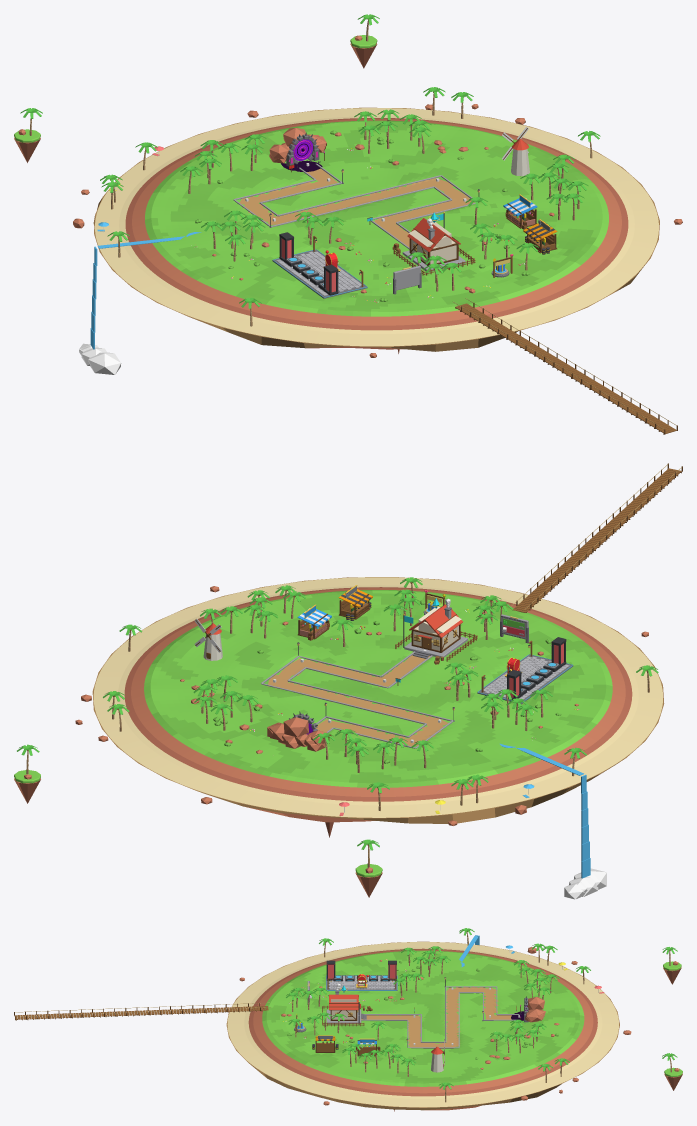
File: Isla1_Tropical.glb
3 views of the same model, one above another, from view 1: azimuth 30°, elevation 25°; view 2: azimuth 150°, elevation 25°; view 3: azimuth 270°, elevation 25° (orthographic). The views are drawn at different scales.
Parts seen in each view (by area): view 1: Isla1_Tropical_Terreno, Isla1_Tropical_Base_Flotante, Isla1_Tropical_Palanca_Zona, Isla1_Tropical_Casa, Isla1_Tropical_Portal, Isla1_Tropical_Detalles_4, Isla1_Tropical_Monumento, Isla1_Tropical_Tienda_Puesto, Puente_1_6, Isla1_Tropical_Equipamientos_Puesto, Isla1_Tropical_Detalles_10, Isla1_Tropical_Detalles_11 (+1 smaller); view 2: Isla1_Tropical_Terreno, Isla1_Tropical_Base_Flotante, Isla1_Tropical_Casa, Isla1_Tropical_Palanca_Zona, Isla1_Tropical_Detalles_4, Isla1_Tropical_Portal, Isla1_Tropical_Equipamientos_Puesto, Isla1_Tropical_Tienda_Puesto, Isla1_Tropical_Detalles_10, Isla1_Tropical_Detalles_11, Isla1_Tropical_Monumento, Isla1_Tropical_Arboles_28 (+1 smaller); view 3: Isla1_Tropical_Terreno, Isla1_Tropical_Base_Flotante, Isla1_Tropical_Casa, Isla1_Tropical_Palanca_Zona, Isla1_Tropical_Portal, Puente_1_6, Isla1_Tropical_Detalles_11, Isla1_Tropical_Detalles_10, Isla1_Tropical_Equipamientos_Puesto, Isla1_Tropical_Monumento.
Boxes of the visible parts, box(x1,y1,x2,y2) form: Isla1_Tropical_Terreno: box(95, 108, 658, 346); Isla1_Tropical_Base_Flotante: box(93, 107, 659, 351); Isla1_Tropical_Palanca_Zona: box(272, 232, 367, 298); Isla1_Tropical_Casa: box(393, 212, 475, 275); Isla1_Tropical_Portal: box(269, 128, 326, 171); Isla1_Tropical_Detalles_4: box(79, 236, 184, 374); Isla1_Tropical_Monumento: box(502, 127, 529, 176); Isla1_Tropical_Tienda_Puesto: box(503, 194, 537, 229); Puente_1_6: box(453, 298, 676, 429); Isla1_Tropical_Equipamientos_Puesto: box(523, 219, 557, 254); Isla1_Tropical_Detalles_10: box(350, 14, 379, 68); Isla1_Tropical_Detalles_11: box(14, 108, 42, 162); Isla1_Tropical_Terreno: box(93, 577, 662, 817); Isla1_Tropical_Base_Flotante: box(92, 577, 664, 823); Isla1_Tropical_Casa: box(395, 598, 477, 661); Isla1_Tropical_Palanca_Zona: box(477, 637, 573, 704); Isla1_Tropical_Detalles_4: box(515, 747, 606, 899); Isla1_Tropical_Portal: box(267, 711, 327, 751); Isla1_Tropical_Equipamientos_Puesto: box(338, 585, 372, 620); Isla1_Tropical_Tienda_Puesto: box(297, 604, 331, 640); Isla1_Tropical_Detalles_10: box(14, 744, 40, 803); Isla1_Tropical_Detalles_11: box(355, 839, 382, 897); Isla1_Tropical_Monumento: box(194, 619, 222, 660); Isla1_Tropical_Arboles_28: box(200, 681, 258, 730); Isla1_Tropical_Terreno: box(227, 942, 618, 1107); Isla1_Tropical_Base_Flotante: box(226, 941, 619, 1110); Isla1_Tropical_Casa: box(322, 983, 366, 1026); Isla1_Tropical_Palanca_Zona: box(326, 960, 397, 990); Isla1_Tropical_Portal: box(511, 996, 545, 1022); Puente_1_6: box(15, 1002, 270, 1016); Isla1_Tropical_Detalles_11: box(662, 947, 681, 984); Isla1_Tropical_Detalles_10: box(662, 1053, 682, 1090); Isla1_Tropical_Equipamientos_Puesto: box(312, 1035, 338, 1052); Isla1_Tropical_Monumento: box(431, 1039, 444, 1072).
Size of the model in its own units: 143 by 45.6 by 239.
Materials: 1 (1 with a texture image).
